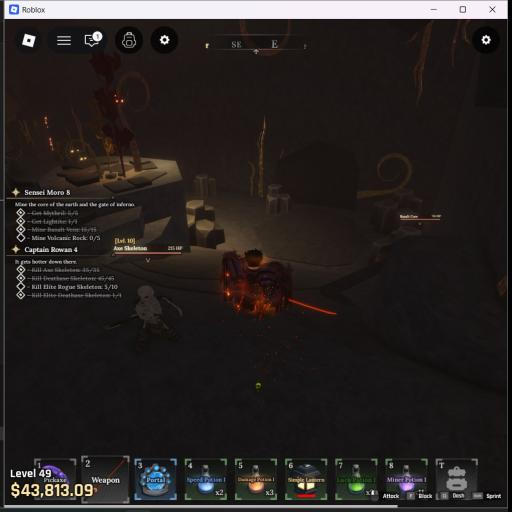player: (220, 249, 292, 319)
rock: (370, 189, 422, 234), (186, 200, 224, 249), (266, 184, 291, 213), (194, 174, 216, 198)
